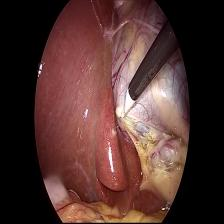Hook: (114, 84, 136, 126)
